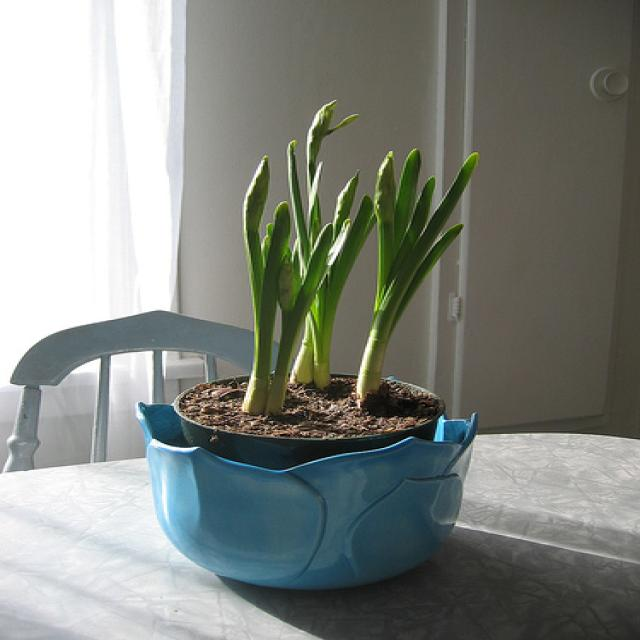chair: (3, 308, 281, 475)
diningtable: (1, 431, 639, 639)
pottedplant: (136, 100, 480, 591)
